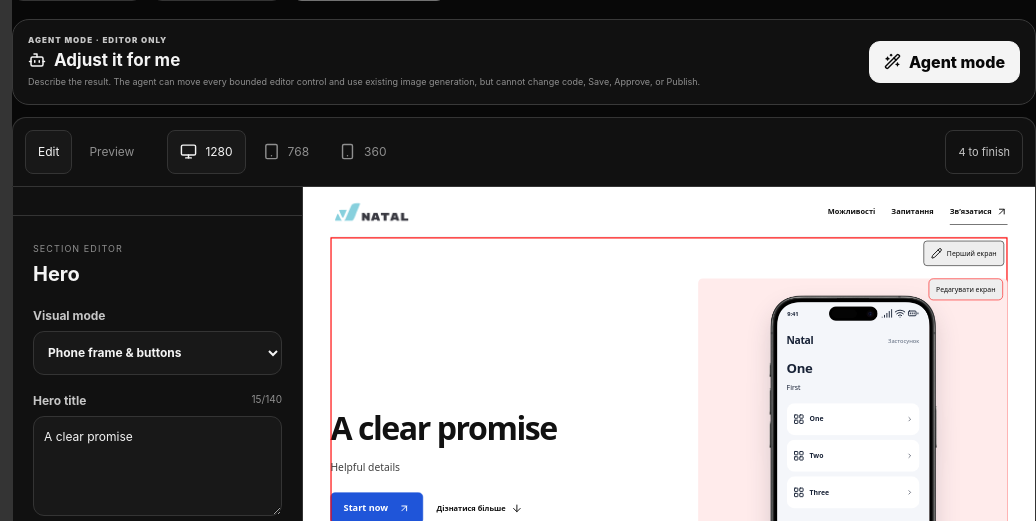
it: keeps pending copy when Save fails and displays an inline error
The width and height of the screenshot is (1036, 521).
(page scrolled)
Replace the text in the text box labelled "Hero title" with "My unsaved headline": (158, 466) [33, 416, 282, 516]
(page scrolled)
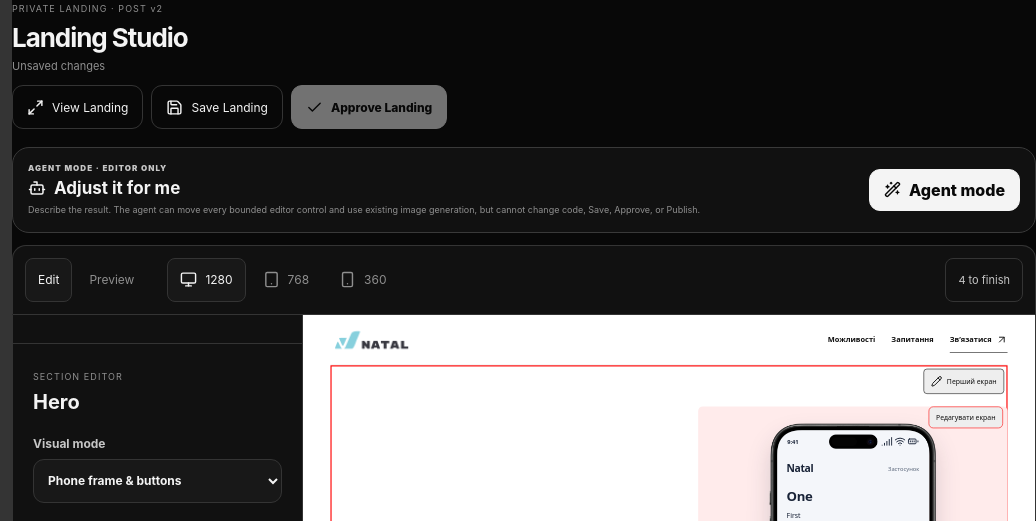
Click the button "Save Landing": (217, 107) [152, 85, 283, 129]
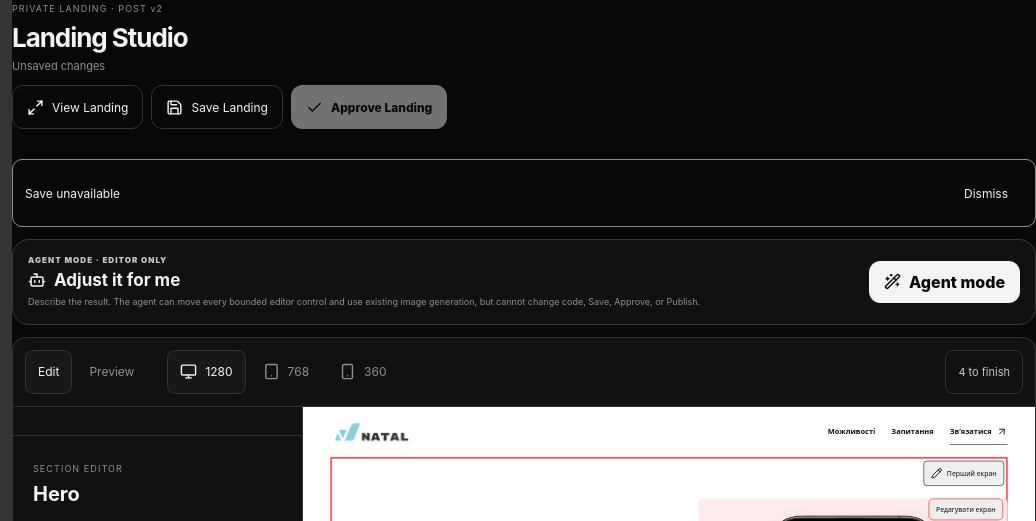
Expected: the message "Save unavailable Dismiss" is shown, [12, 159, 1035, 227]
